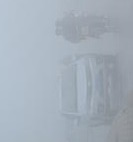person: (54, 26, 120, 44), (54, 13, 118, 26)
